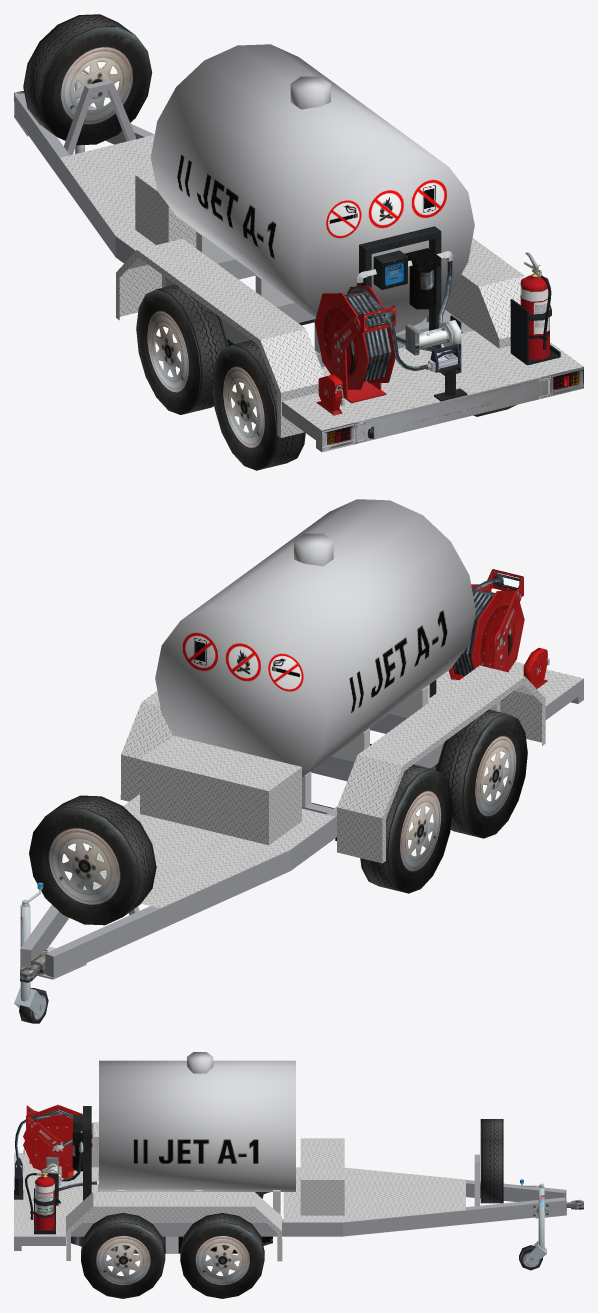
Rendered from fuel-trailer2-5m-cbj_LOD02.gltf.
3 views of the same model, one above another, from view 1: azimuth 30°, elevation 25°; view 2: azimuth 150°, elevation 25°; view 3: azimuth 270°, elevation 25° (orthographic). The views are drawn at different scales.
Parts seen in each view (by area): view 1: fuel-trailer2-2; view 2: fuel-trailer2-2; view 3: fuel-trailer2-2.
Part boxes in pixels (x1=…): fuel-trailer2-2: x1=14, y1=14, x2=583, y2=470; fuel-trailer2-2: x1=14, y1=499, x2=583, y2=1023; fuel-trailer2-2: x1=14, y1=1052, x2=583, y2=1298.
Bounding box in the file's own units: 1.83 × 2.04 × 5.21.
